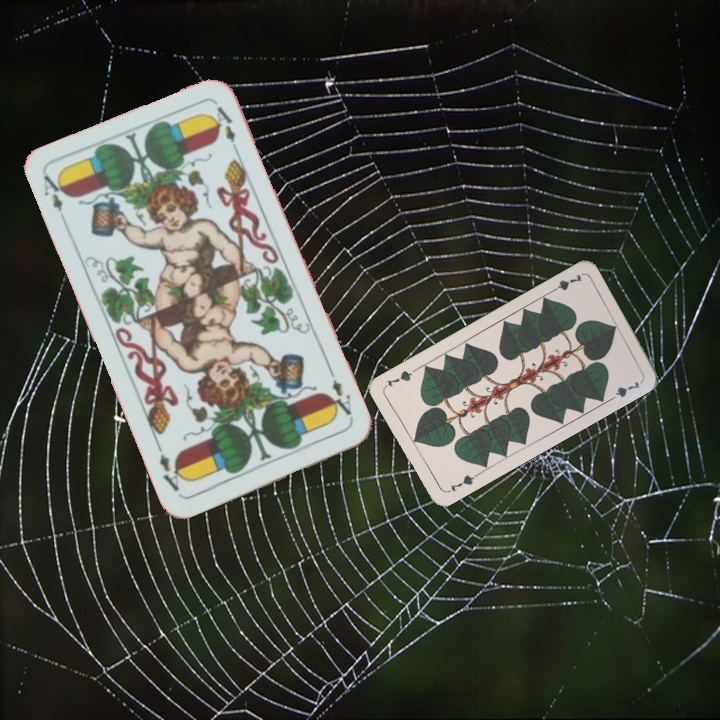EA: (323, 367, 354, 418), (39, 170, 70, 214)
G7: (546, 270, 585, 296), (442, 470, 480, 495)
